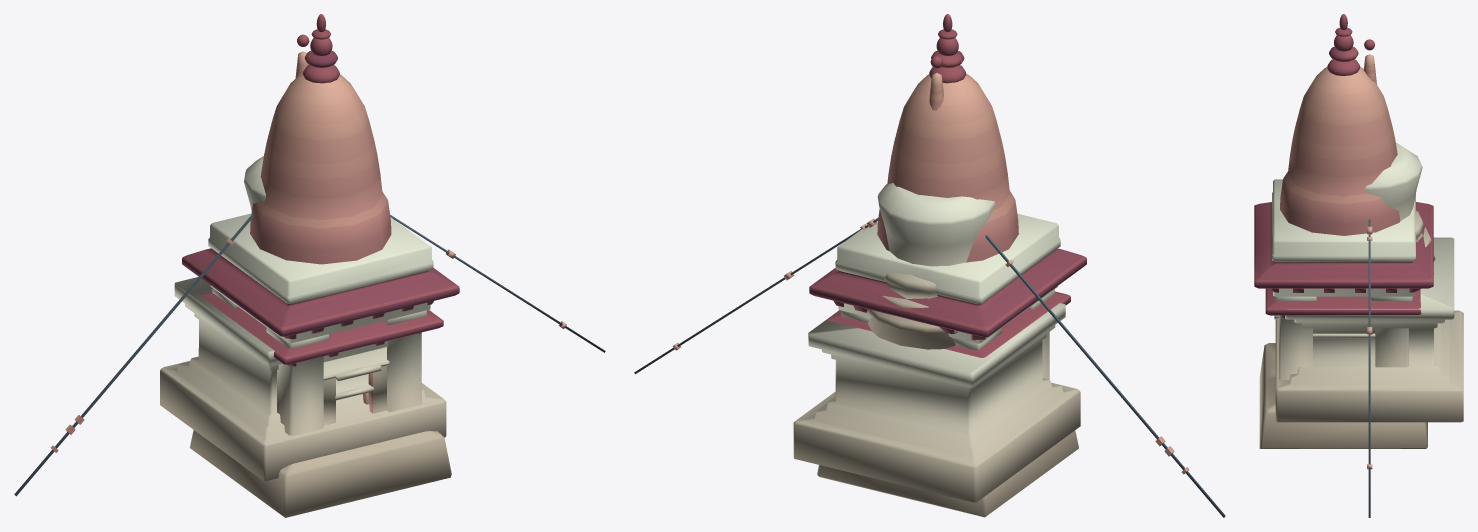
Rendered from Desert_Temple_Set_02.fbx.
3 renders of one model, left to right at view 1: azimuth 30°, elevation 25°; view 2: azimuth 150°, elevation 25°; view 3: azimuth 270°, elevation 25°, orthographic. The views are drawn at different scales.
Visible parts, largest first — view 1: Temple2, Temple3, Temple1; view 2: Temple3, Temple2, Temple1; view 3: Temple2, Temple3, Temple1.
Part boxes in pixels (x1,y1,x2,y2): Temple2: (182,14,459,517); Temple3: (14,34,605,496); Temple1: (200,292,443,404); Temple3: (634,56,1225,517); Temple2: (809,14,1086,517); Temple1: (827,291,1070,357); Temple2: (1254,14,1433,448); Temple3: (1275,39,1463,517); Temple1: (1265,288,1421,318).
Bounding box in the file's own units: 26.4 × 19.36 × 9.12.
Materials: 1 (1 with a texture image).
